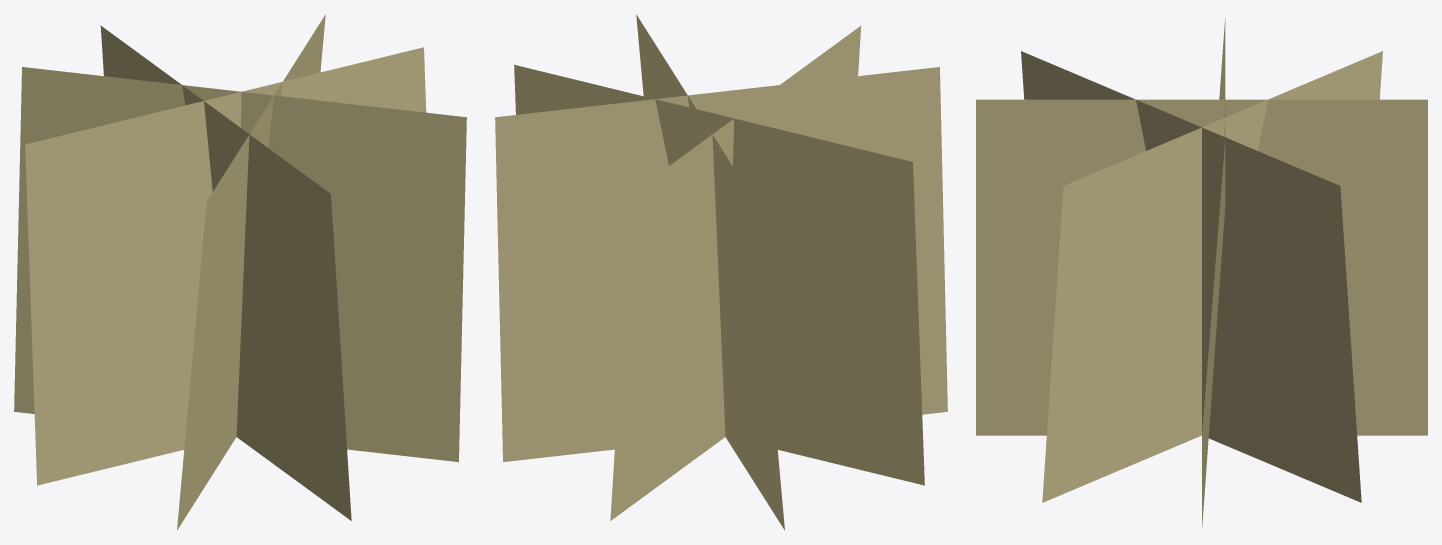
The model's file is grass-tuft-v1.glb.
3 views of the same model, side by side, from view 1: azimuth 30°, elevation 25°; view 2: azimuth 150°, elevation 25°; view 3: azimuth 270°, elevation 25° (orthographic).
Parts seen in each view (by area): view 1: grass-tuft-v1.lod0; view 2: grass-tuft-v1.lod0; view 3: grass-tuft-v1.lod0.
Boxes of the visible parts, x1=… form: grass-tuft-v1.lod0: x1=14, y1=14, x2=466, y2=530; grass-tuft-v1.lod0: x1=495, y1=14, x2=947, y2=530; grass-tuft-v1.lod0: x1=976, y1=18, x2=1427, y2=528.
Bounding box in the file's own units: 2.7 × 2.15 × 2.7.
